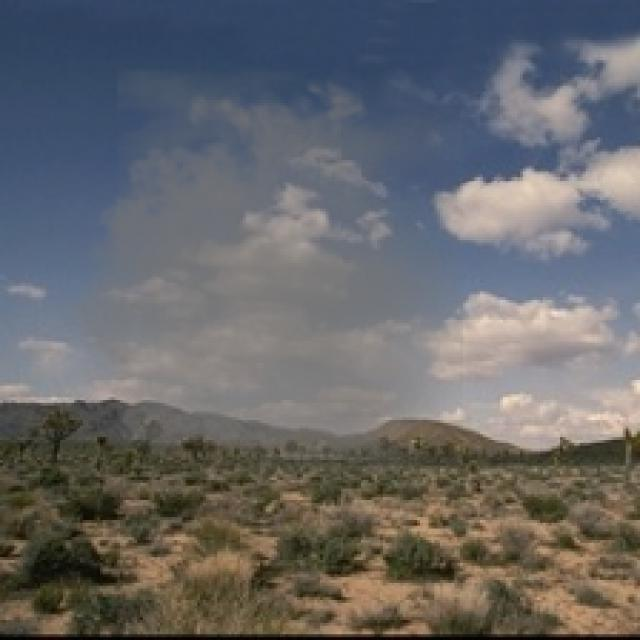smoke: (48, 69, 463, 474)
